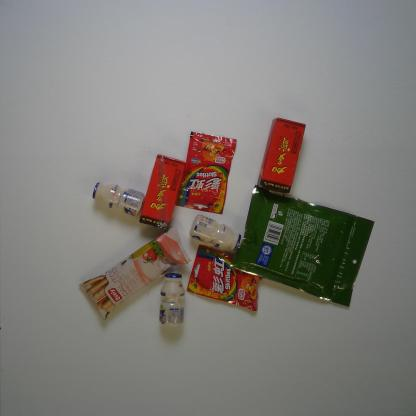Candy: (174, 129, 238, 215), (185, 243, 263, 312)
Dessert: (77, 224, 192, 320)
Dried Fruit: (228, 184, 373, 308)
Drink: (256, 116, 306, 196), (137, 152, 186, 233)
Milk: (188, 213, 242, 252), (91, 182, 146, 217), (158, 272, 186, 325)
